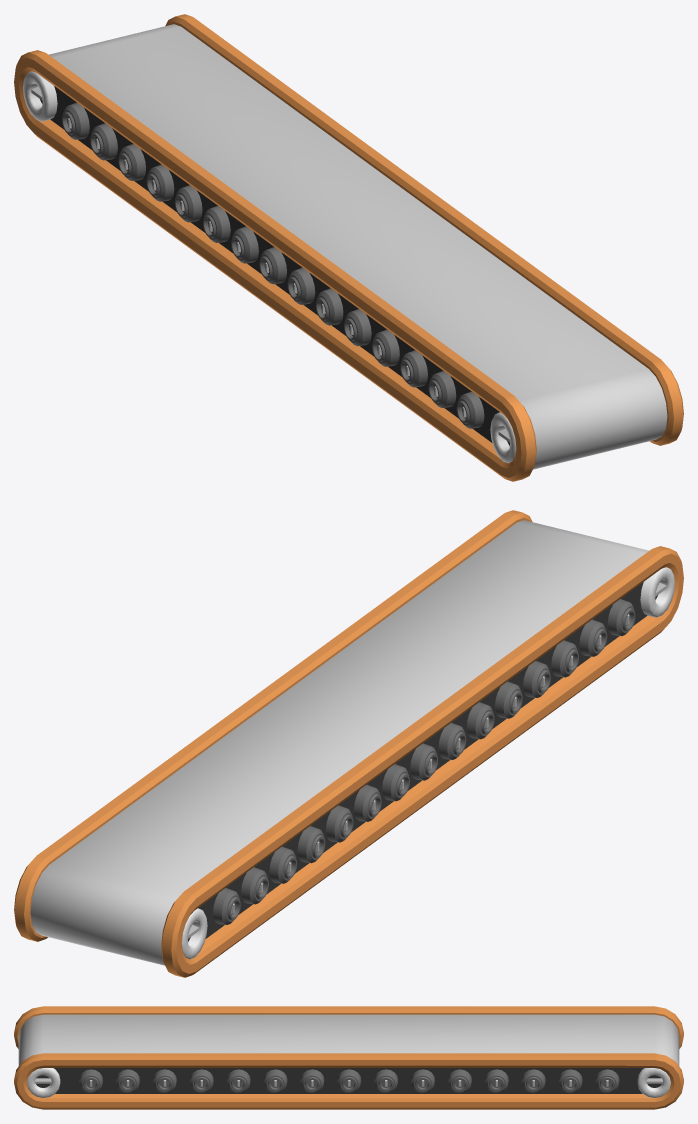
The model's file is Belt_Conveyor (2).fbx.
3 views of the same model, one above another, from view 1: azimuth 30°, elevation 25°; view 2: azimuth 150°, elevation 25°; view 3: azimuth 270°, elevation 25° (orthographic). The views are drawn at different scales.
Parts seen in each view (by area): view 1: Belt_Ribbon, Belt_Side, Belt_Walls, Belt_Shaft_01, Belt_Shaft_02, Belt_Roller_06, Belt_Roller_04, Belt_Roller_01, Belt_Roller_15, Belt_Roller_03, Belt_Roller_17, Belt_Roller_07 (+8 smaller); view 2: Belt_Ribbon, Belt_Side, Belt_Walls, Belt_Shaft_02, Belt_Shaft_01, Belt_Roller_27, Belt_Roller_16, Belt_Roller_30, Belt_Roller_01, Belt_Roller_04, Belt_Roller_06, Belt_Roller_05 (+8 smaller); view 3: Belt_Side, Belt_Ribbon, Belt_Walls, Belt_Shaft_01, Belt_Shaft_02, Belt_Roller_14, Belt_Roller_10, Belt_Roller_21, Belt_Roller_23, Belt_Roller_08, Belt_Roller_24, Belt_Roller_34 (+8 smaller).
Part boxes in pixels (bbox=[...]): Belt_Ribbon: bbox=[49, 24, 667, 469]; Belt_Side: bbox=[14, 14, 683, 481]; Belt_Walls: bbox=[40, 86, 509, 445]; Belt_Shaft_01: bbox=[23, 71, 57, 121]; Belt_Shaft_02: bbox=[490, 412, 516, 463]; Belt_Roller_06: bbox=[90, 123, 117, 160]; Belt_Roller_04: bbox=[146, 164, 174, 201]; Belt_Roller_01: bbox=[231, 226, 258, 263]; Belt_Roller_15: bbox=[287, 267, 315, 304]; Belt_Roller_03: bbox=[174, 185, 202, 222]; Belt_Roller_17: bbox=[400, 350, 427, 387]; Belt_Roller_07: bbox=[62, 102, 89, 139]; Belt_Ribbon: bbox=[30, 520, 648, 965]; Belt_Side: bbox=[14, 510, 683, 977]; Belt_Walls: bbox=[188, 582, 657, 941]; Belt_Shaft_02: bbox=[640, 567, 674, 617]; Belt_Shaft_01: bbox=[181, 908, 207, 959]; Belt_Roller_27: bbox=[607, 599, 635, 636]; Belt_Roller_16: bbox=[495, 681, 522, 718]; Belt_Roller_30: bbox=[579, 619, 607, 656]; Belt_Roller_01: bbox=[382, 764, 409, 801]; Belt_Roller_04: bbox=[297, 826, 325, 863]; Belt_Roller_06: bbox=[241, 867, 268, 904]; Belt_Roller_05: bbox=[269, 846, 297, 883]; Belt_Side: bbox=[14, 1006, 683, 1109]; Belt_Ribbon: bbox=[18, 1014, 679, 1065]; Belt_Walls: bbox=[36, 1068, 661, 1093]; Belt_Shaft_01: bbox=[637, 1068, 670, 1097]; Belt_Shaft_02: bbox=[27, 1068, 60, 1097]; Belt_Roller_14: bbox=[595, 1069, 619, 1093]; Belt_Roller_10: bbox=[448, 1069, 471, 1093]; Belt_Roller_21: bbox=[263, 1069, 287, 1093]; Belt_Roller_23: bbox=[300, 1069, 324, 1093]; Belt_Roller_08: bbox=[374, 1069, 398, 1093]; Belt_Roller_24: bbox=[226, 1069, 250, 1093]; Belt_Roller_34: bbox=[116, 1069, 139, 1093].
Size of the model in its own units: 1.47 by 0.6814 by 7.79.
